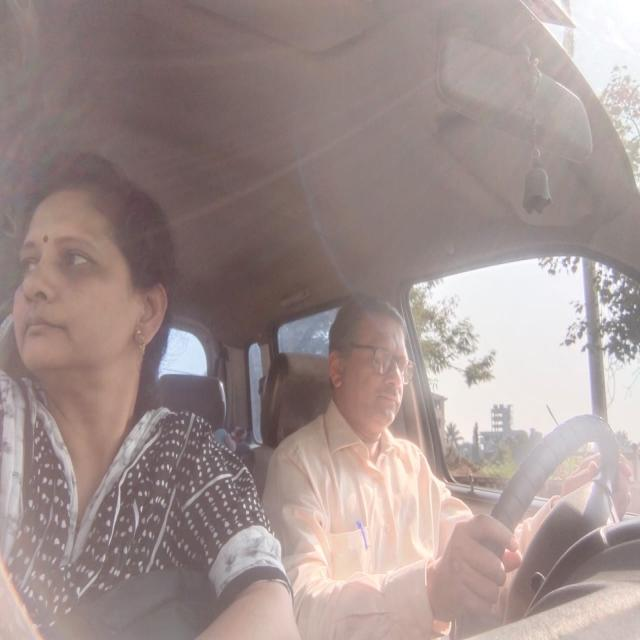drowsy: (324, 290, 419, 444)
person: (9, 160, 180, 386)
